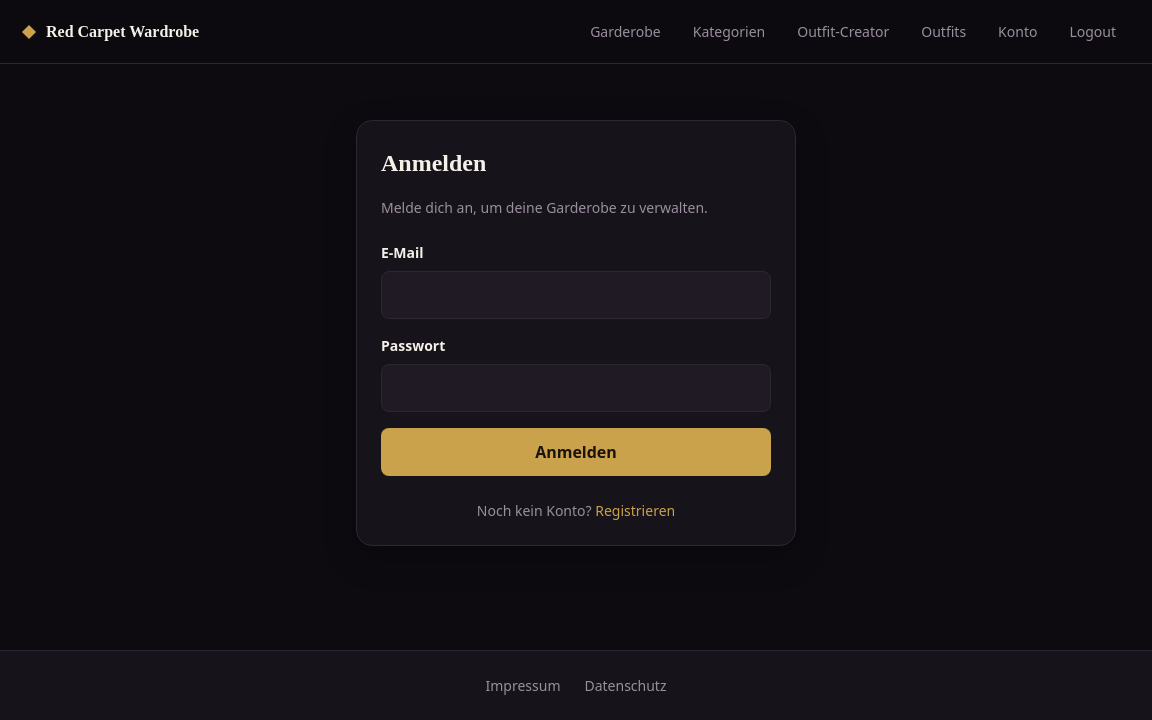
Scenario: LoginPage › meldet mit korrekten Daten an und leitet zur Garderobe weiter
Type "anna@example.com" into the field labelled "E-Mail".
click(576, 295); type("anna@example.com")  # box [381,271,771,319]
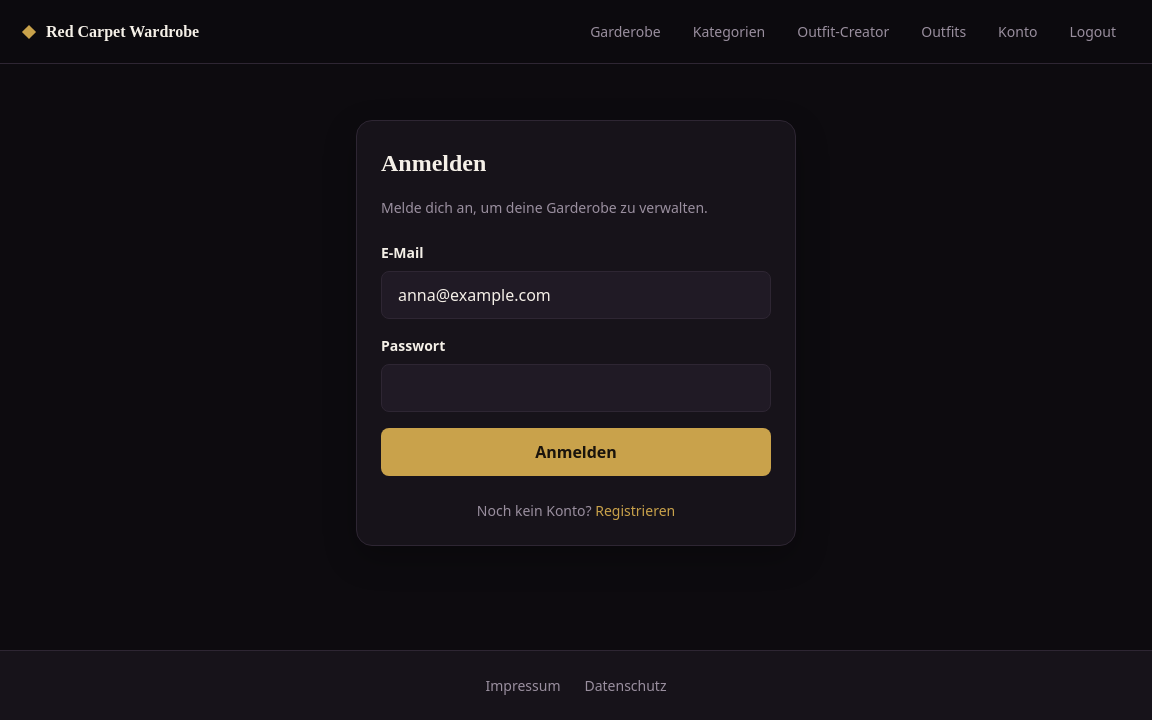
Type "geheim123" into the password field labelled "Passwort".
click(576, 388); type("geheim123")  # box [381,364,771,412]
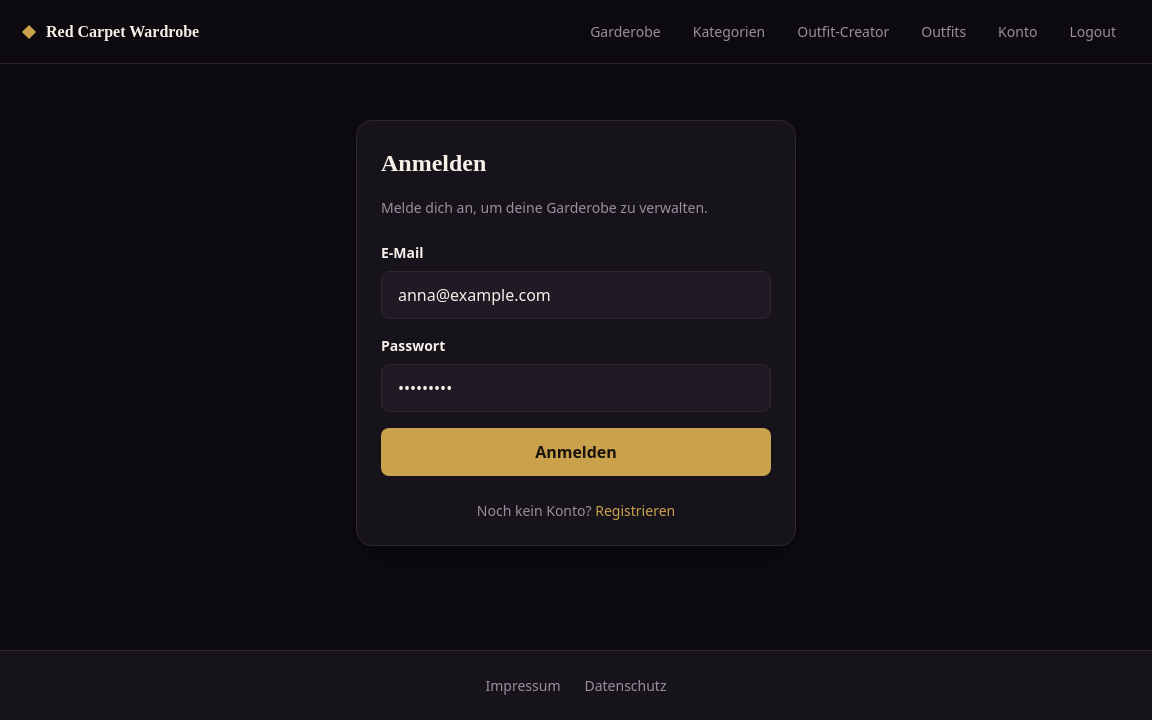
Click the button "Anmelden".
click(576, 452)  # box [381,428,771,476]
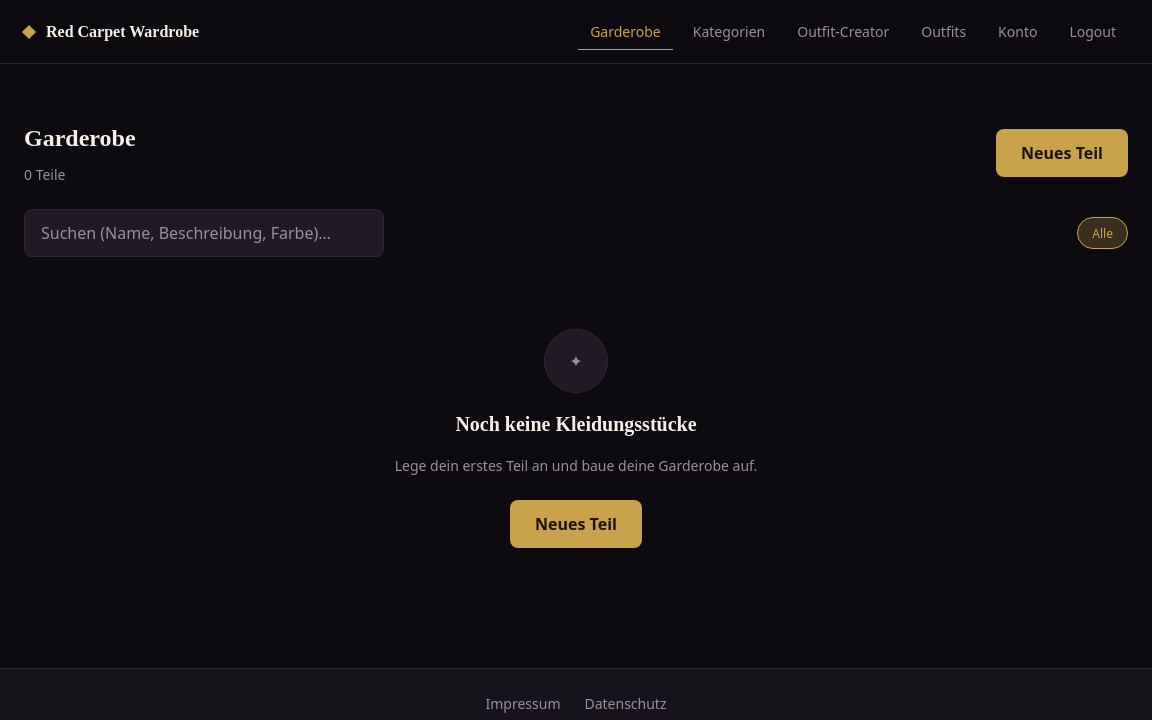
Expected: the heading "Garderobe" is shown, [24,120,136,156]
